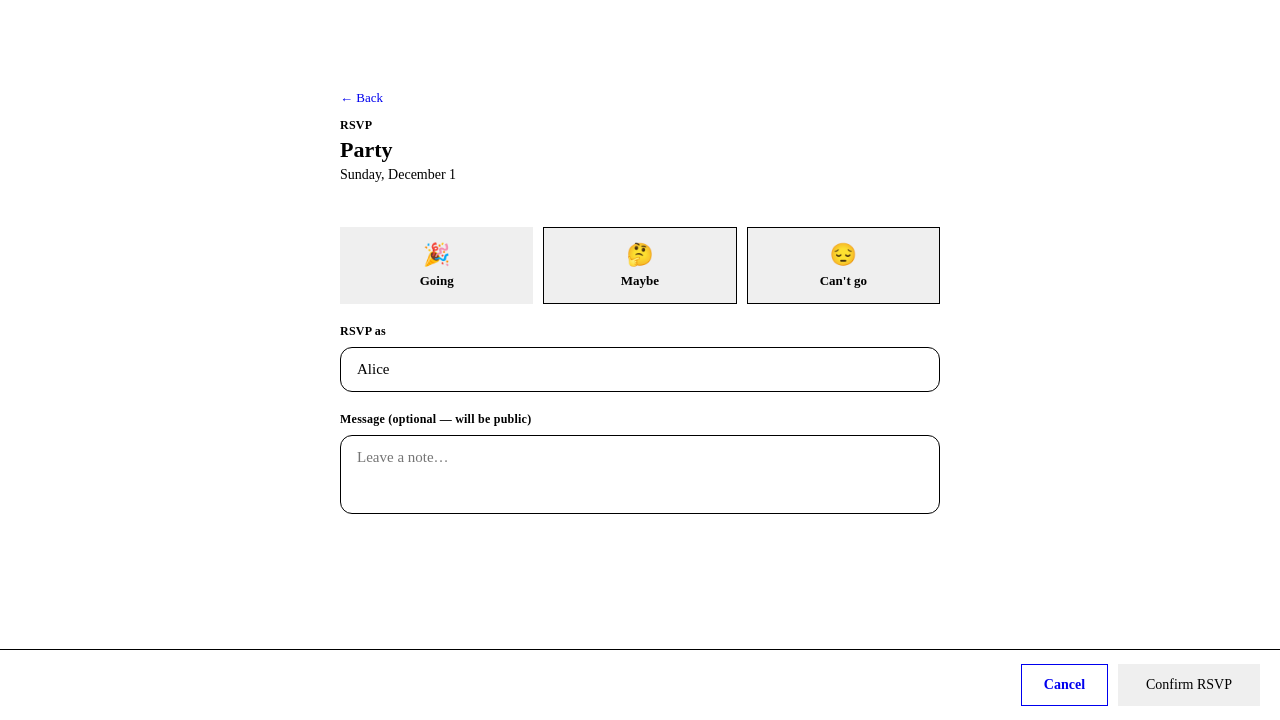
Scenario: #754 edit-link box on the RSVP done screen › still offers the copy box to a guest with no contact on file
Click the button "Confirm RSVP". click: (1189, 685)
box: [1118,664,1260,706]
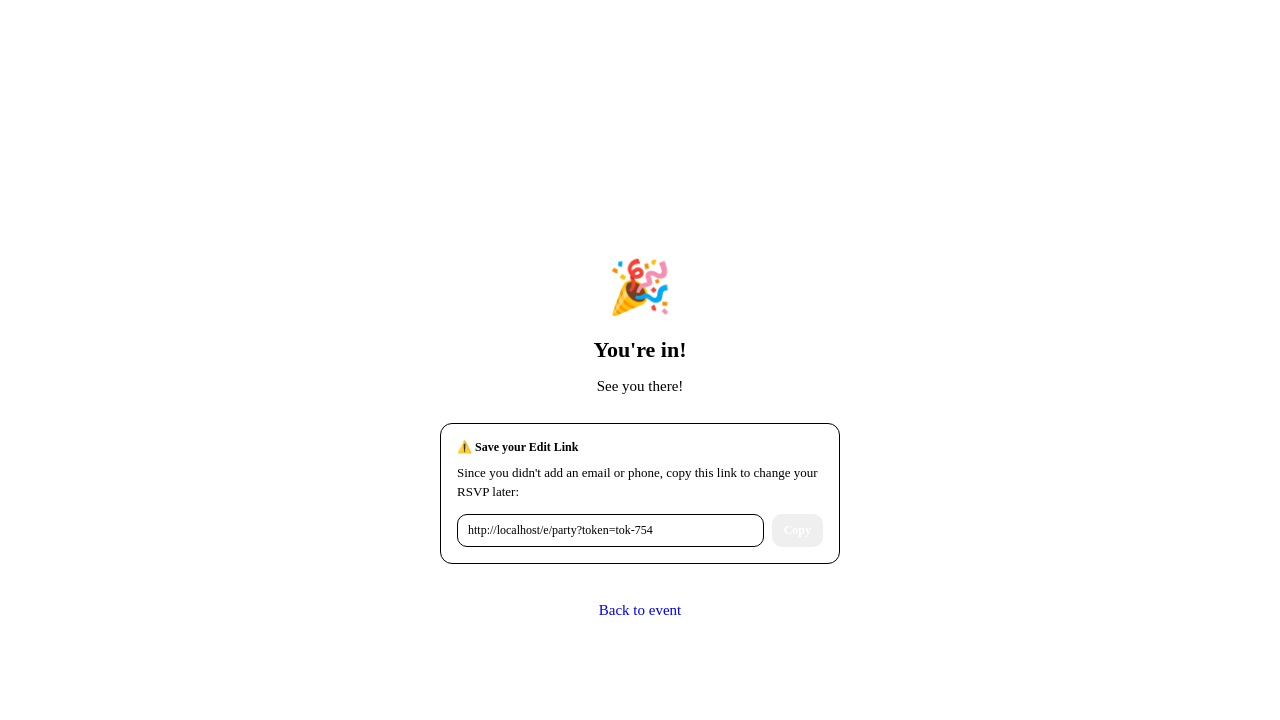
Now the heading "You're in!" is shown, box [593,337,686,362]
Now the text "⚠️ Save your Edit Link" is shown, box [457,440,578,454]
Now the field showing "/e/party?token=tok-754" is shown, box [457,514,764,547]
